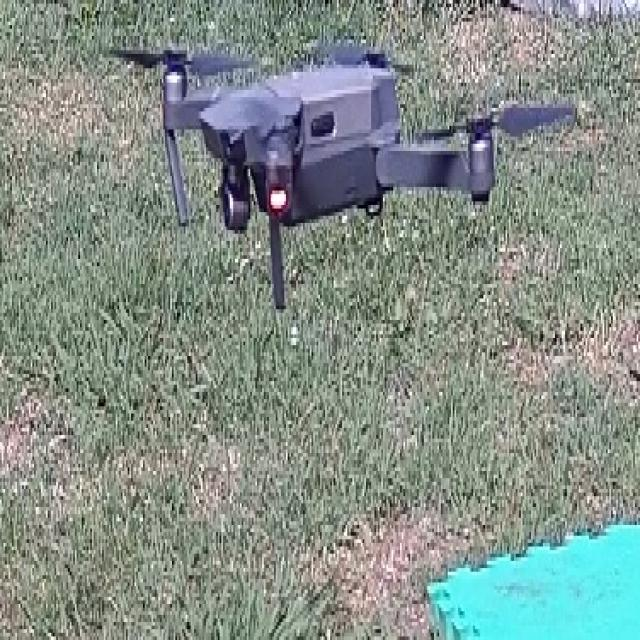drone: (78, 11, 584, 337)
